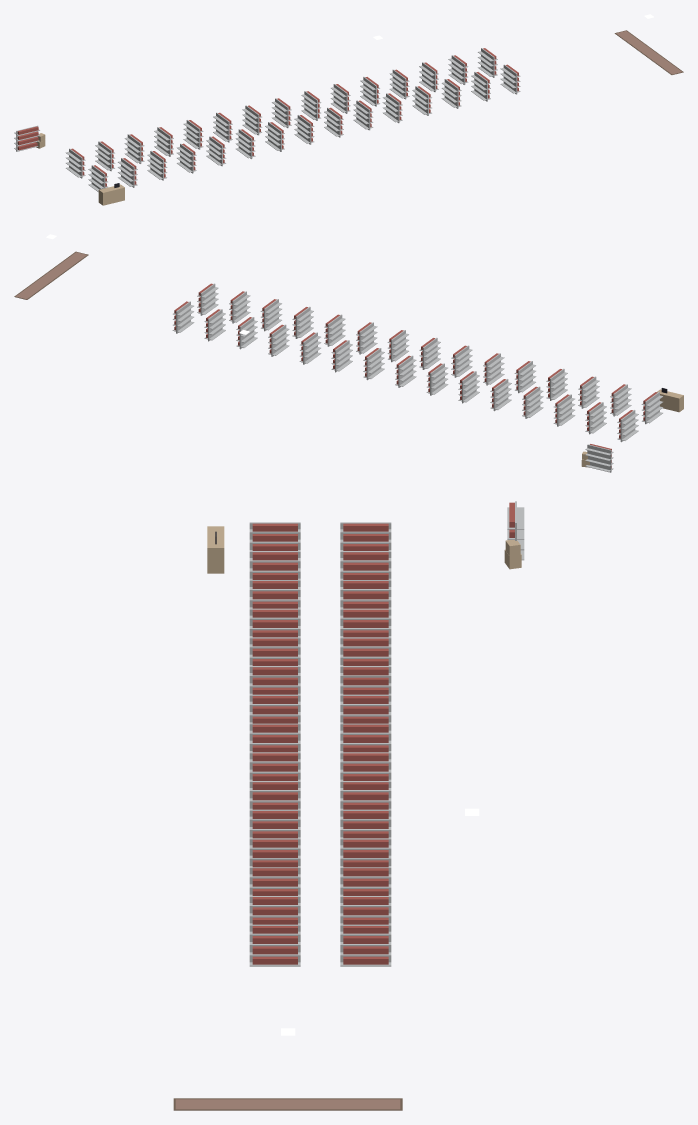
The model's file is fine-s0.glb.
3 renders of one model, top to bottom at view 1: azimuth 30°, elevation 25°; view 2: azimuth 150°, elevation 25°; view 3: azimuth 270°, elevation 25°, orthographic. The views are drawn at different scales.
Parts seen in each view (by area): view 1: soft-s0, shelving.000, shop-counter.000, shelf.019, shelf.008, shelf.014, shelf.004, shelf.005, shelf.012, shelf.015, shelf.025, shelf.029 (+21 smaller); view 2: soft-s0, shelving.000, shelf.021, shelf.029, shelf.022, shelf.006, shelf.014, shelf.003, shelf.011, shelf.019, shelf.004, shelf.012 (+21 smaller); view 3: soft-s0, shelf.028, shelf.029, shelf.012, shelf.013, shelf.022, shelf.023, shelf.006, shelf.007, shelf.014, shelf.015, shelf.020 (+19 smaller).
Boxes of the visible parts, box(x1,y1,x2,y2) form: soft-s0: box(614, 30, 683, 74); shelving.000: box(14, 125, 40, 151); shop-counter.000: box(98, 183, 124, 205); shelf.019: box(353, 100, 373, 130); shelf.008: box(183, 120, 203, 149); shelf.014: box(271, 98, 291, 128); shelf.004: box(124, 134, 144, 163); shelf.005: box(147, 150, 167, 180); shelf.012: box(242, 105, 262, 135); shelf.015: box(294, 115, 314, 144); shelf.025: box(441, 79, 461, 108); shelf.029: box(500, 64, 520, 94); soft-s0: box(14, 251, 88, 299); shelving.000: box(585, 444, 613, 472); shelf.021: box(324, 314, 345, 346); shelf.029: box(197, 283, 218, 315); shelf.022: box(268, 324, 289, 356); shelf.006: box(522, 386, 543, 418); shelf.014: box(395, 355, 416, 387); shelf.003: box(610, 384, 631, 416); shelf.011: box(483, 353, 504, 385); shelf.019: box(356, 322, 377, 354); shelf.004: box(553, 394, 575, 426); shelf.012: box(426, 363, 448, 395); soft-s0: box(173, 1098, 402, 1110); shelf.028: box(340, 924, 391, 966); shelf.029: box(249, 924, 300, 966); shelf.012: box(340, 694, 391, 723); shelf.013: box(249, 694, 300, 723); shelf.022: box(340, 838, 391, 867); shelf.023: box(249, 838, 300, 867); shelf.006: box(340, 608, 391, 637); shelf.007: box(249, 608, 300, 637); shelf.014: box(340, 723, 391, 752); shelf.015: box(249, 723, 300, 752); shelf.020: box(340, 809, 391, 838).
Size of the model in its own units: 47.47 by 2.85 by 12.39.
